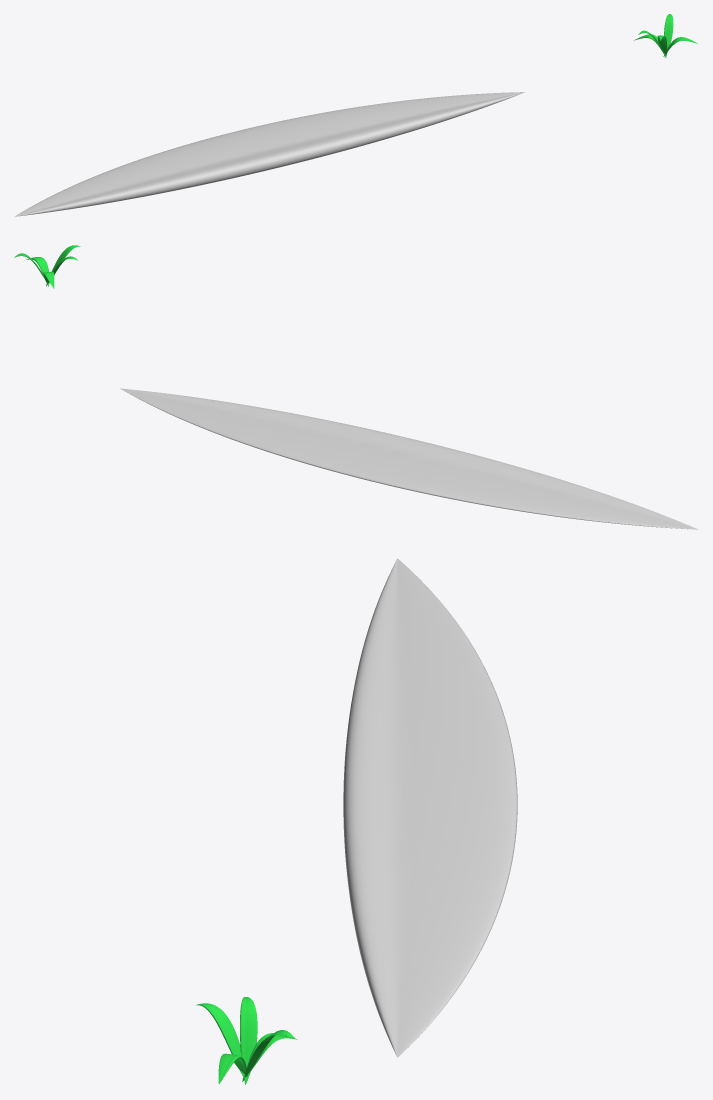
Rendered from grass2.fbx.
The picture shows the model from 3 angles, top to bottom: view 1: azimuth 30°, elevation 25°; view 2: azimuth 150°, elevation 25°; view 3: azimuth 270°, elevation 25°; orthographic projection. The views are drawn at different scales.
Visible parts, largest first — view 1: NurbsPath, NurbsPath.002; view 2: NurbsPath, NurbsPath.002; view 3: NurbsPath, NurbsPath.002.
Part boxes in pixels (x1,y1,x2,y2): NurbsPath: (14,92,524,216); NurbsPath.002: (634,14,697,57); NurbsPath: (120,388,698,529); NurbsPath.002: (14,245,80,288); NurbsPath: (343,558,517,1057); NurbsPath.002: (196,997,296,1084).
Size of the model in its own units: 501 by 55.3 by 109.
